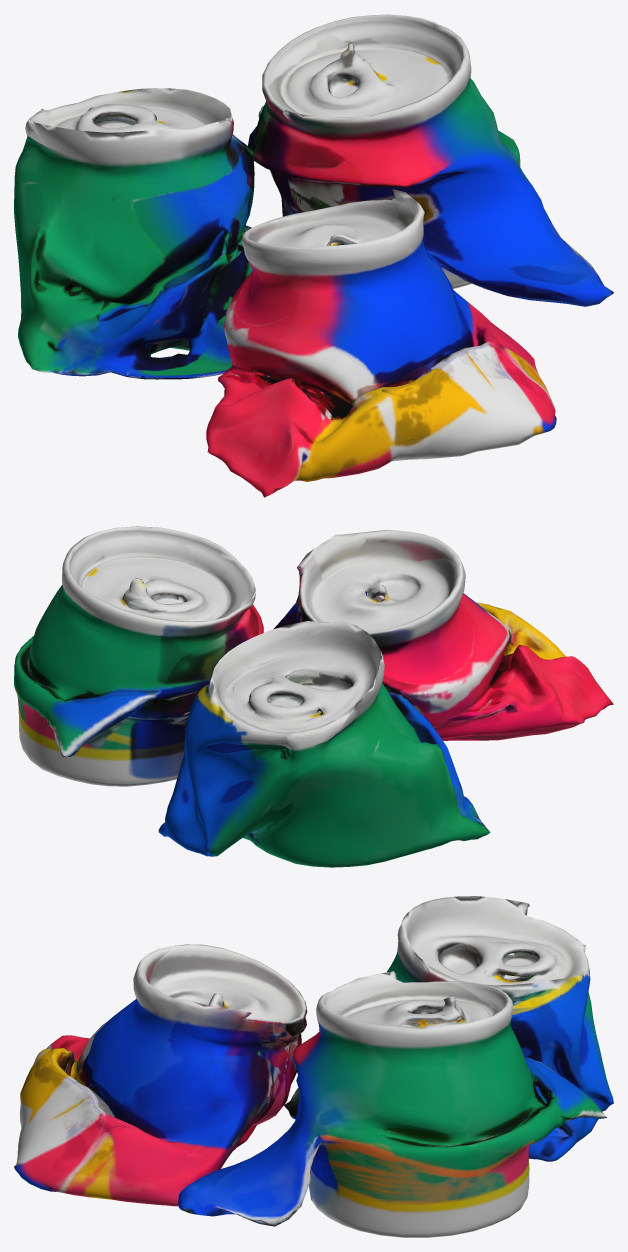
Rendered from Meshy_AI_Recycled_Trio_0102213156_texture.fbx.
3 views of the same model, one above another, from view 1: azimuth 30°, elevation 25°; view 2: azimuth 150°, elevation 25°; view 3: azimuth 270°, elevation 25° (orthographic). The views are drawn at different scales.
Parts seen in each view (by area): view 1: Mesh0; view 2: Mesh0; view 3: Mesh0.
Part boxes in pixels (x1=…): Mesh0: x1=14, y1=14, x2=613, y2=497; Mesh0: x1=14, y1=526, x2=613, y2=867; Mesh0: x1=14, y1=896, x2=613, y2=1237.
Size of the model in its own units: 168 by 74.73 by 191.
Materials: 1 (1 with a texture image).
